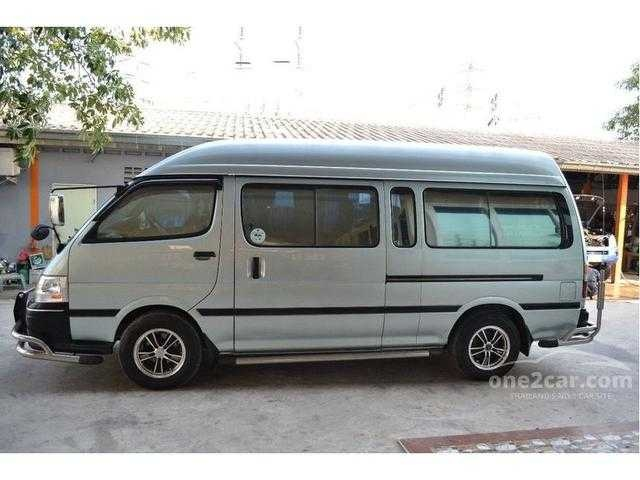van: (9, 136, 588, 391)
